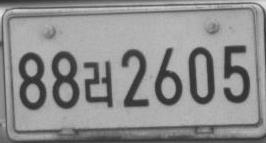0: (188, 45, 215, 105)
2: (120, 48, 149, 108)
5: (222, 44, 251, 104)
6: (153, 47, 183, 106)
8: (17, 51, 47, 110), (51, 49, 79, 109)
러: (83, 60, 113, 108)
